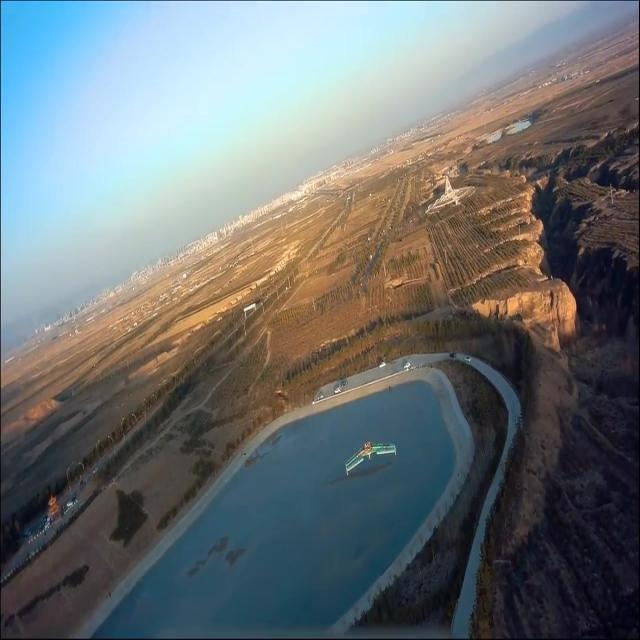iha: (345, 434, 397, 470)
